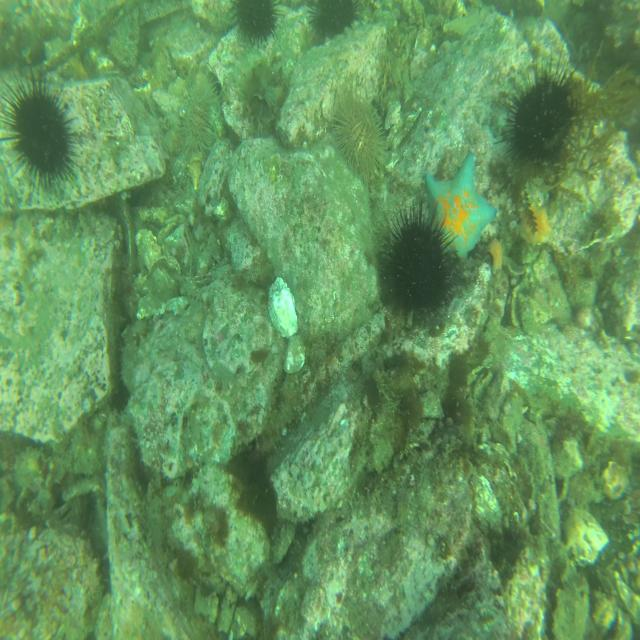echinus: (0, 68, 83, 189), (380, 206, 460, 317), (507, 54, 577, 180), (331, 84, 386, 190), (180, 74, 221, 154), (229, 0, 279, 46), (307, 0, 357, 43)
starfish: (423, 148, 497, 268)
